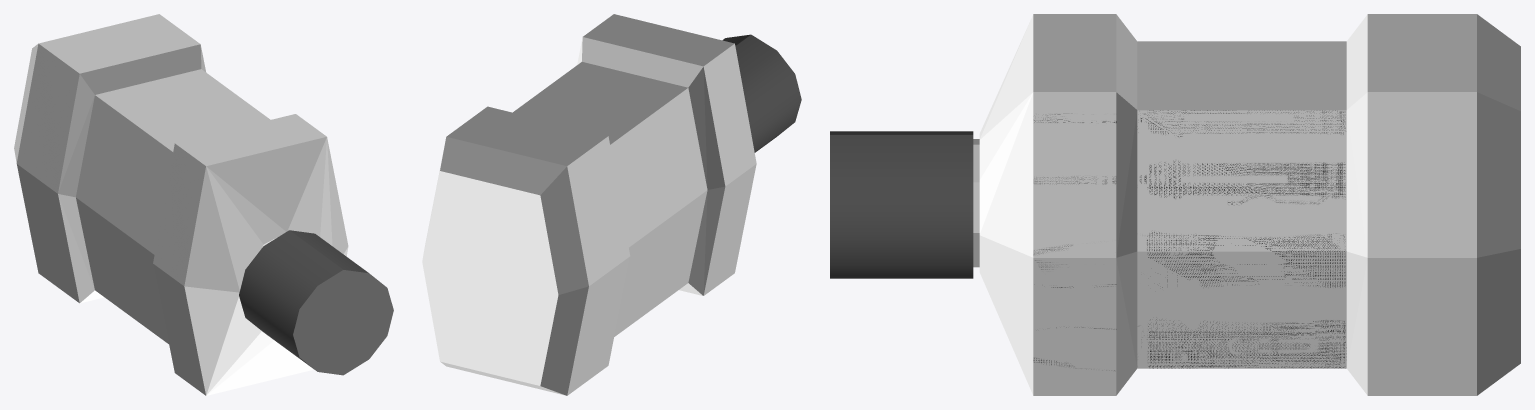
File: model_scale.obj
3 renders of one model, left to right at view 1: azimuth 30°, elevation 25°; view 2: azimuth 150°, elevation 25°; view 3: azimuth 270°, elevation 25°, orthographic. The views are drawn at different scales.
Visible parts, largest first — view 1: mesh1_mesh1-geometry, mesh2_mesh2-geometry; view 2: mesh1_mesh1-geometry, mesh2_mesh2-geometry; view 3: mesh1_mesh1-geometry, mesh2_mesh2-geometry.
Part boxes in pixels (left/top/right/bottom): mesh1_mesh1-geometry: left=14, top=14, right=348, bottom=395; mesh2_mesh2-geometry: left=239, top=230, right=393, bottom=375; mesh1_mesh1-geometry: left=422, top=14, right=756, bottom=395; mesh2_mesh2-geometry: left=722, top=34, right=801, bottom=152; mesh1_mesh1-geometry: left=973, top=14, right=1520, bottom=395; mesh2_mesh2-geometry: left=830, top=131, right=973, bottom=278.
Bounding box in the file's own units: 0.0904 × 0.1209 × 0.2491.
